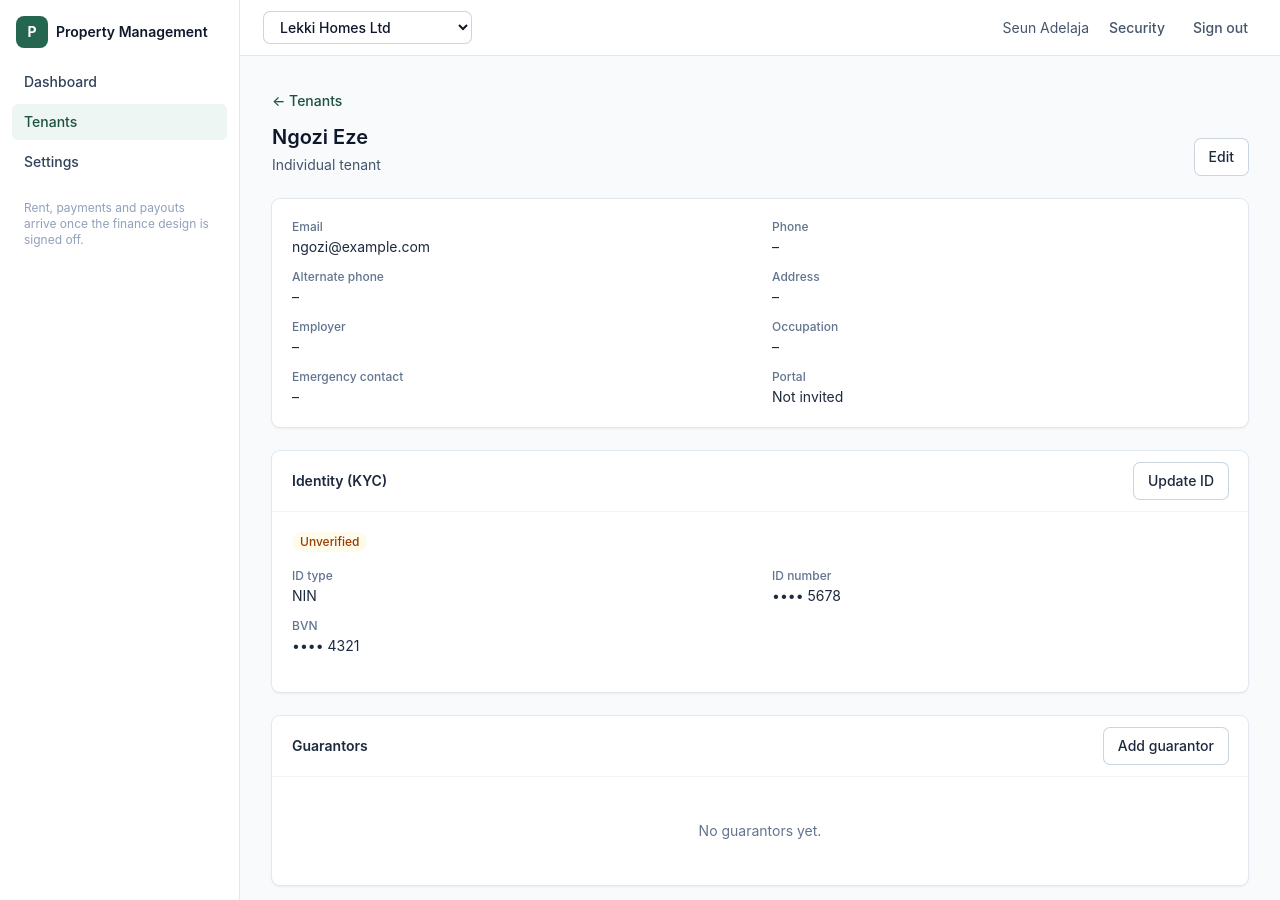
it: tenant KYC panel › checks NIN and BVN length before saving
Click the button "Update ID". click: {"x": 1181, "y": 481}
box: 1134,463 -> 1228,499
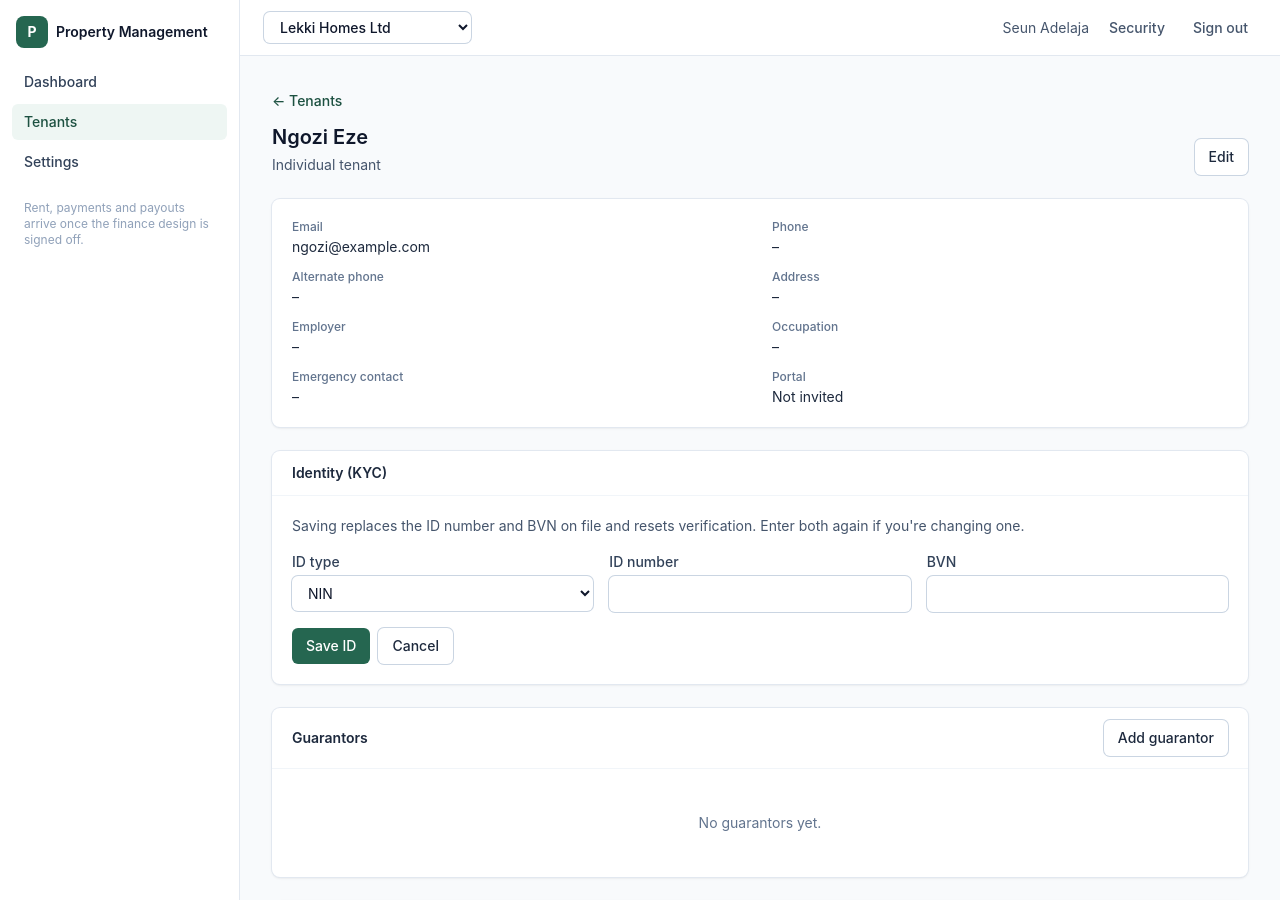
Type "1234" into the field labelled "ID number". click: {"x": 760, "y": 594}
box: 609,576 -> 911,612
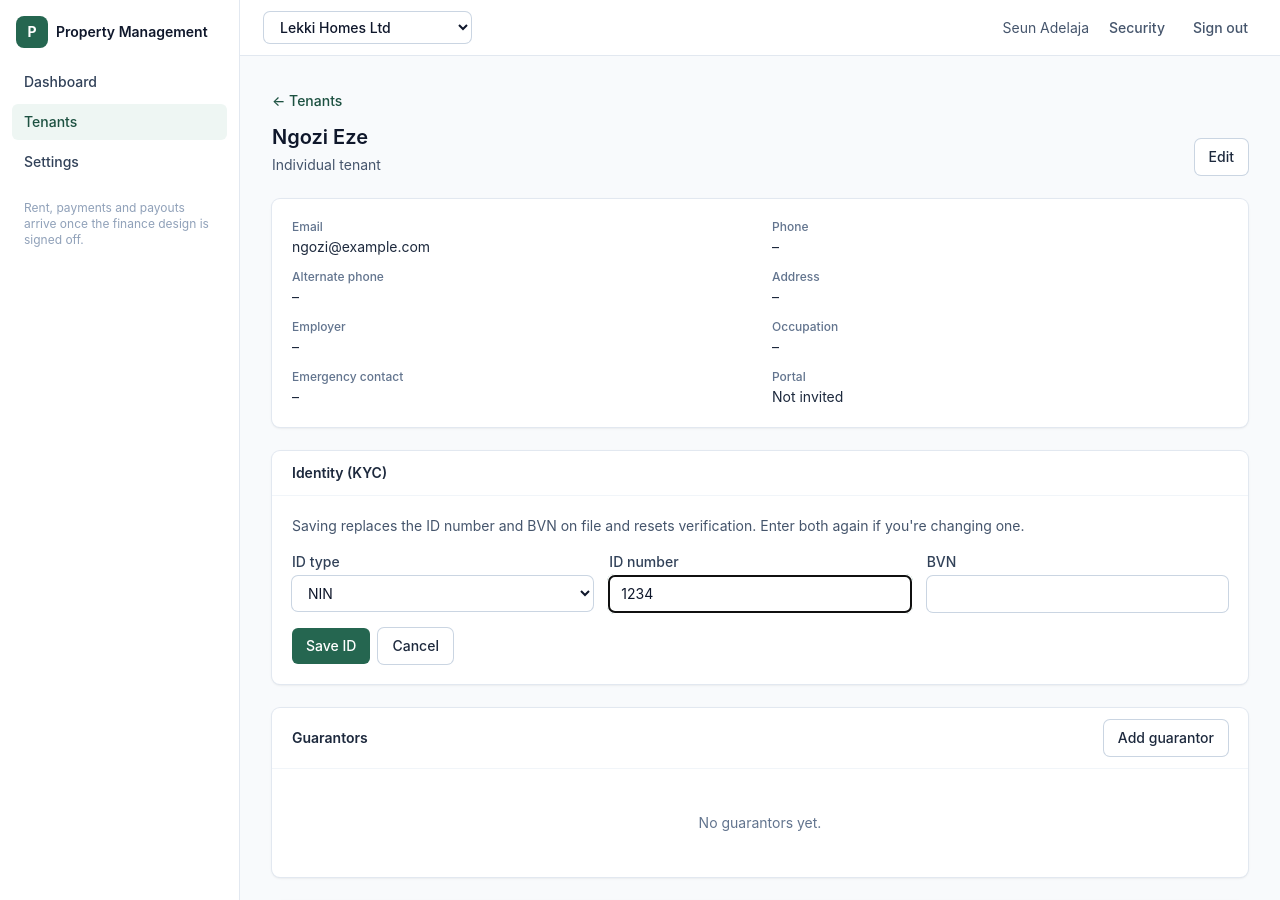
Type "99" into the field labelled "BVN". click: {"x": 1077, "y": 594}
box: 927,576 -> 1228,612
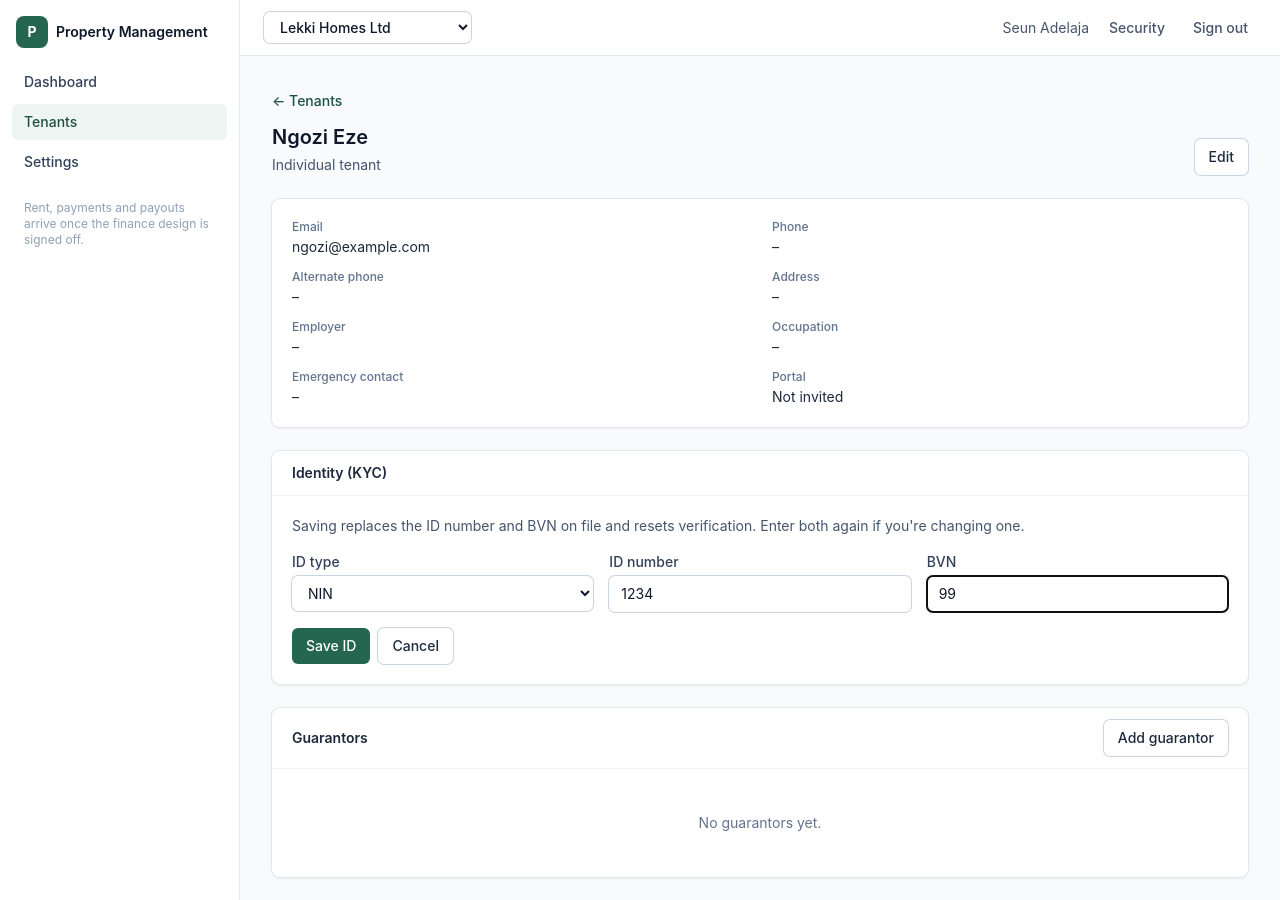
Click the button "Save ID". click: {"x": 331, "y": 646}
box: 292,628 -> 370,664
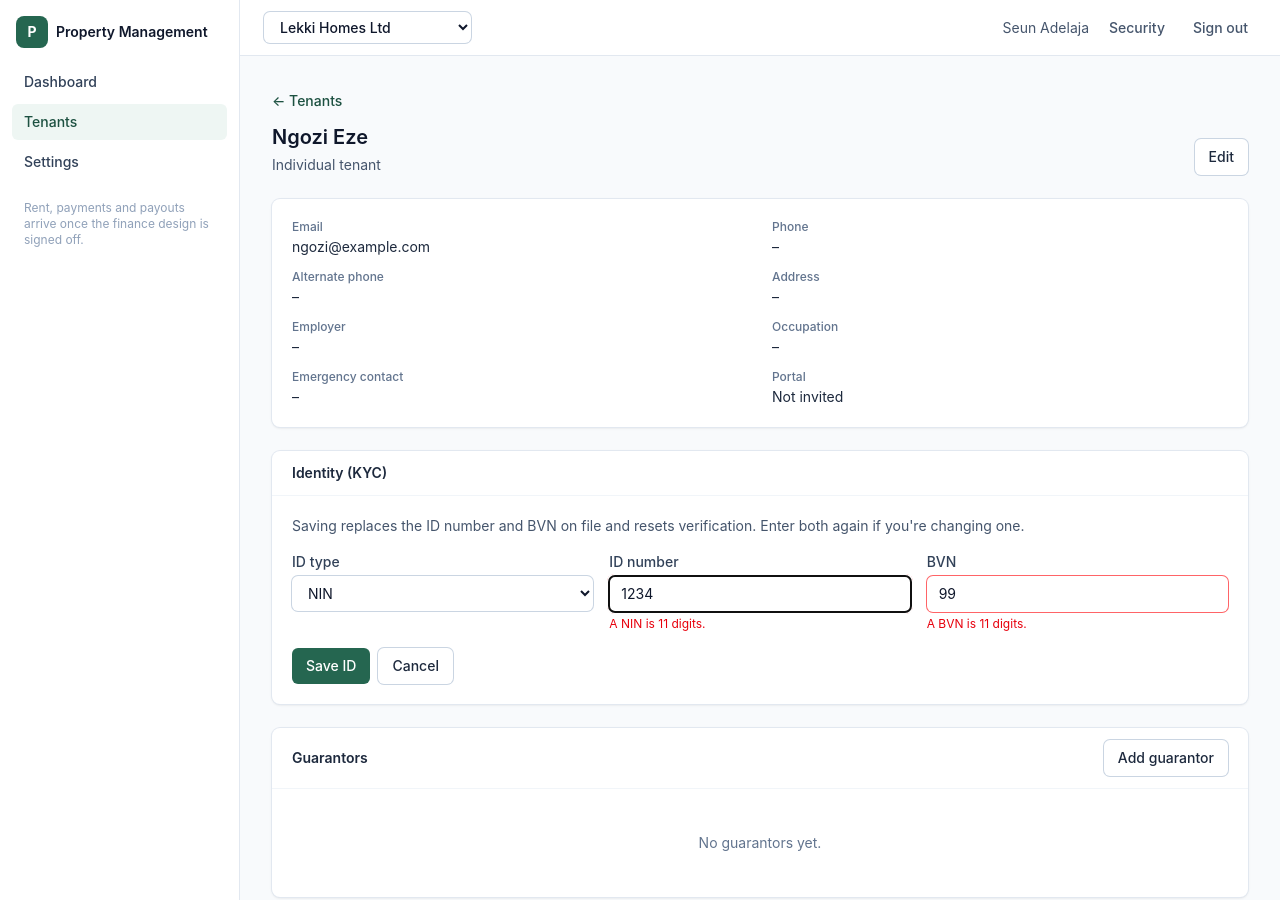
Expected: the text "A NIN is 11 digits." is shown, 609,616 -> 706,631
Expected: the text "A BVN is 11 digits." is shown, 927,616 -> 1027,631
